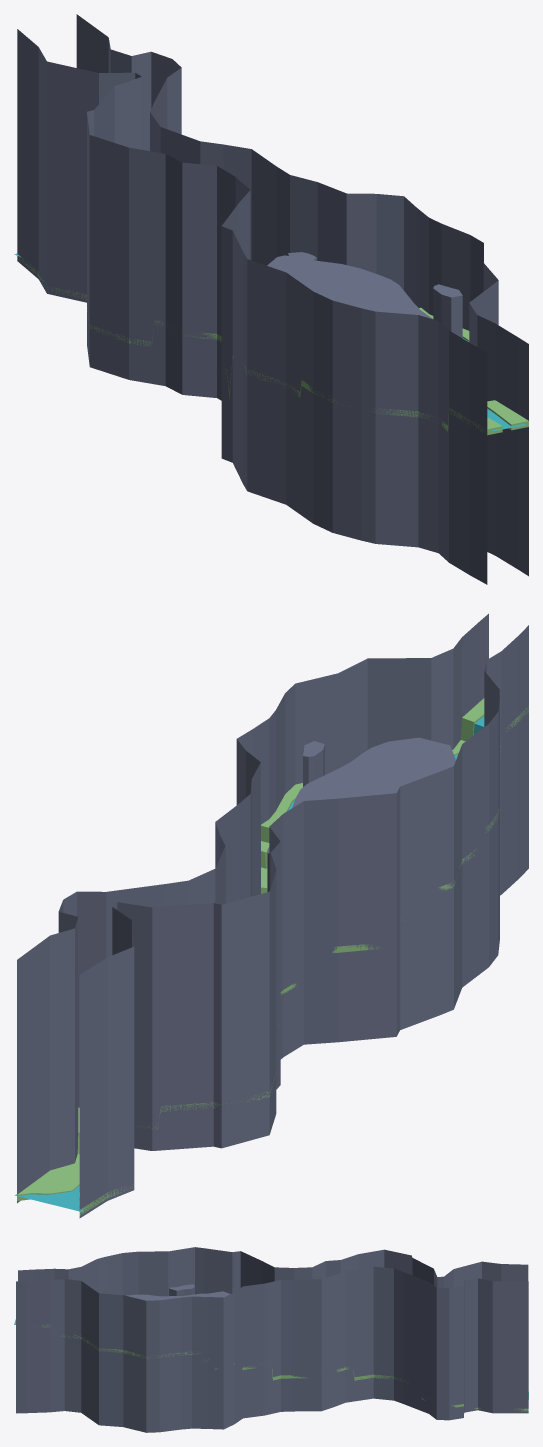
File: LevelV1.fbx
3 renders of one model, top to bottom at view 1: azimuth 30°, elevation 25°; view 2: azimuth 150°, elevation 25°; view 3: azimuth 270°, elevation 25°, orthographic. The views are drawn at different scales.
Parts seen in each view (by area): view 1: polySurface8; view 2: polySurface8; view 3: polySurface8.
Part boxes in pixels (left/top/right/bottom): polySurface8: left=14, top=14, right=528, bottom=584; polySurface8: left=14, top=613, right=528, bottom=1218; polySurface8: left=14, top=1247, right=528, bottom=1432.
Bounding box in the file's own units: 669 × 765 × 2707.
